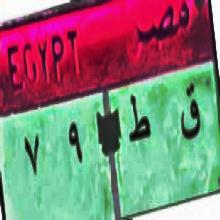7: (20, 131, 44, 180)
9: (65, 115, 87, 170)
Taa: (123, 88, 153, 150)
qaaf: (176, 76, 203, 149)
